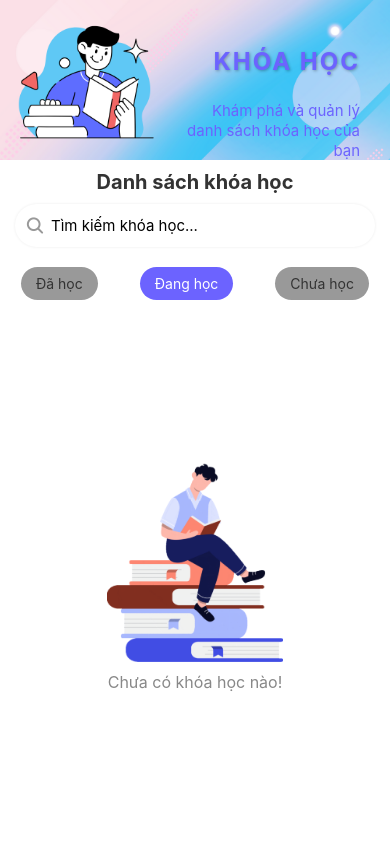
Test: CourseListScreen - Bỏ qua login › Hiển thị dữ liệu ở tab Đang học mà không cần đăng nhập
Click the text "Đang học" at (186, 284), box [155,275,218,292]
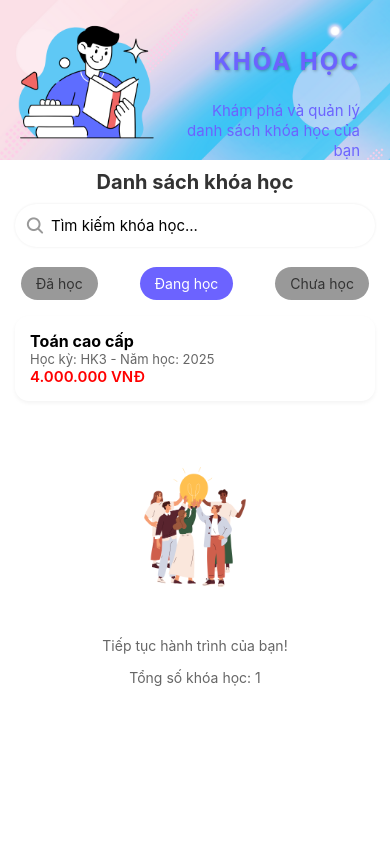
Now the text "Toán cao cấp" is shown, box [30,331,134,351]
Now the text "4.000.000 VNĐ" is shown, box [30,367,145,386]
Click the text "Đã học" at (59, 284), box [36,275,83,292]
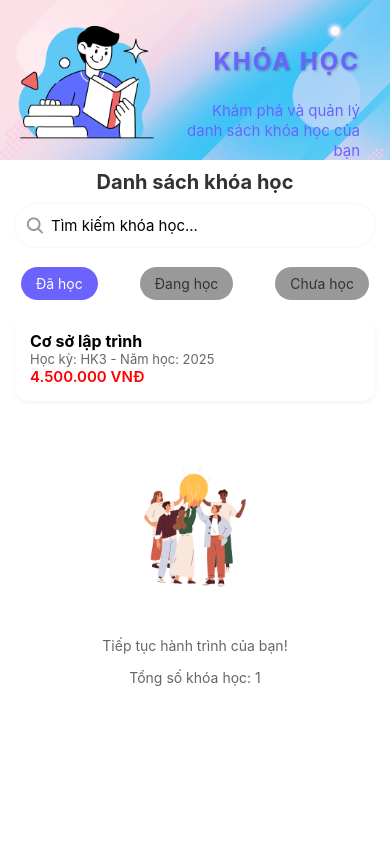
Now the text "Cơ sở lập trình" is shown, box [30,331,142,351]
Click the text "Chưa học" at (322, 284), box [290,275,354,292]
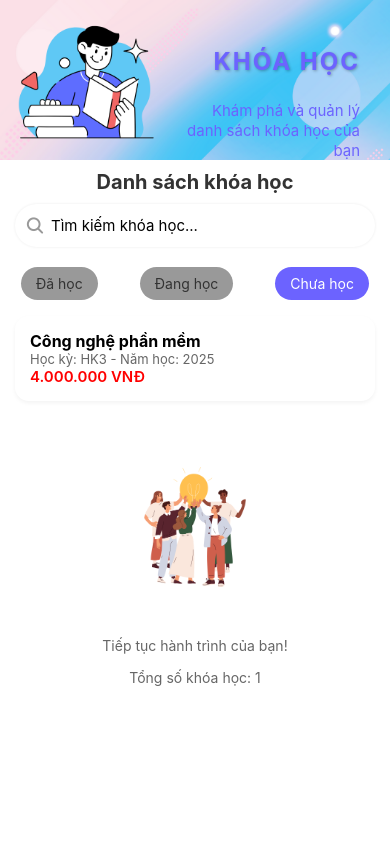
Now the text "Công nghệ phần mềm" is shown, box [30,331,214,351]
